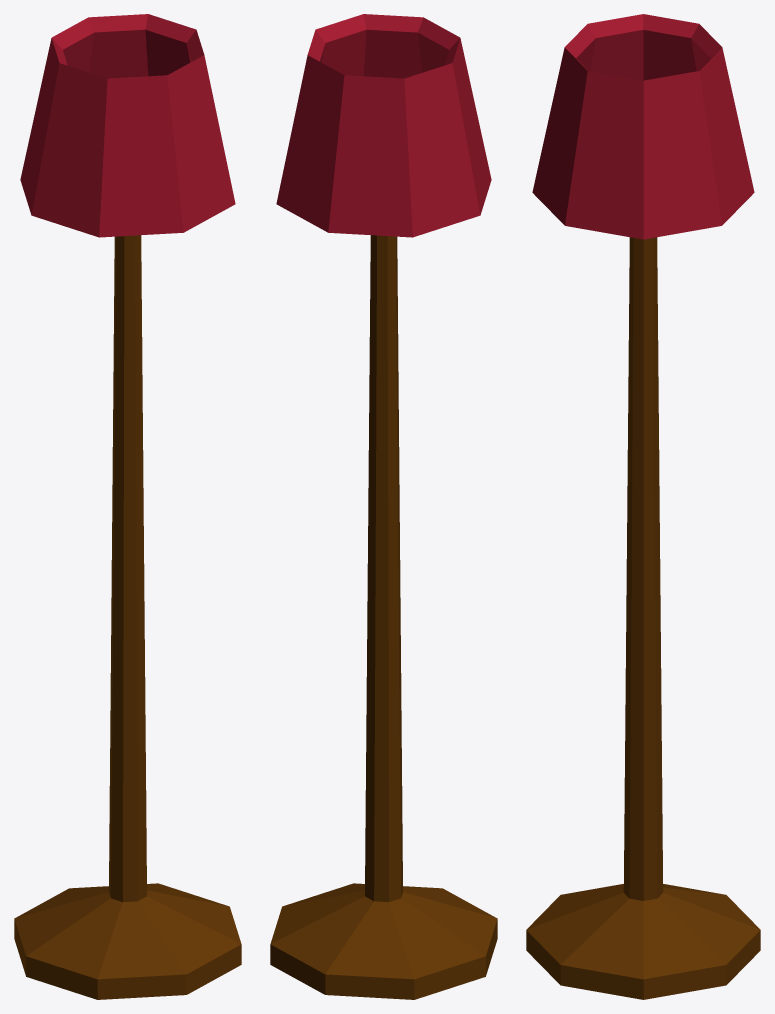
The model's file is lamp 1.fbx.
3 renders of one model, left to right at view 1: azimuth 30°, elevation 25°; view 2: azimuth 150°, elevation 25°; view 3: azimuth 270°, elevation 25°, orthographic.
Visible parts, largest first — view 1: pCylinder48; view 2: pCylinder48; view 3: pCylinder48.
Part boxes in pixels (left/top/right/bottom): pCylinder48: left=14, top=14, right=241, bottom=999; pCylinder48: left=270, top=14, right=497, bottom=999; pCylinder48: left=526, top=14, right=760, bottom=999.
Bounding box in the file's own units: 4.73 × 20.09 × 4.73.
